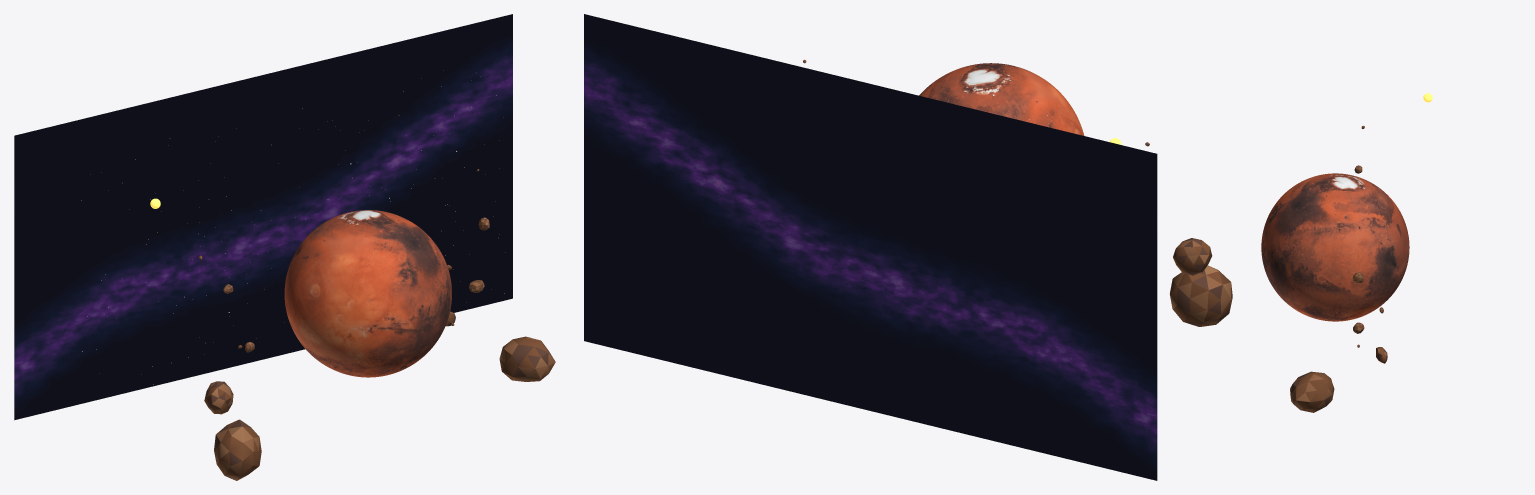
The model's file is mars-cinematic-scene.glb.
3 views of the same model, side by side, from view 1: azimuth 30°, elevation 25°; view 2: azimuth 150°, elevation 25°; view 3: azimuth 270°, elevation 25° (orthographic). The views are drawn at different scales.
Parts seen in each view (by area): view 1: Nebula | original baked presentation sky, Mars | UV sphere with portable 4K surface, Asteroid / illustrative rock 03, Asteroid / illustrative rock 08, Asteroid / illustrative rock 02; view 2: Nebula | original baked presentation sky, Mars | UV sphere with portable 4K surface, Asteroid / illustrative rock 03, Asteroid / illustrative rock 02; view 3: Mars | UV sphere with portable 4K surface, Asteroid / illustrative rock 08.
Part boxes in pixels (x1,y1,x2,y2): Nebula | original baked presentation sky: (14,14,512,420); Mars | UV sphere with portable 4K surface: (284,210,451,377); Asteroid / illustrative rock 03: (214,419,261,480); Asteroid / illustrative rock 08: (499,336,555,381); Asteroid / illustrative rock 02: (204,381,233,414); Nebula | original baked presentation sky: (584,14,1157,480); Mars | UV sphere with portable 4K surface: (919,63,1084,135); Asteroid / illustrative rock 03: (1170,265,1232,326); Asteroid / illustrative rock 02: (1173,238,1212,275); Mars | UV sphere with portable 4K surface: (1261,173,1409,321); Asteroid / illustrative rock 08: (1290,371,1334,412).
Size of the model in its own units: 22 by 12 by 11.2.
Materials: 10 (2 with a texture image).
